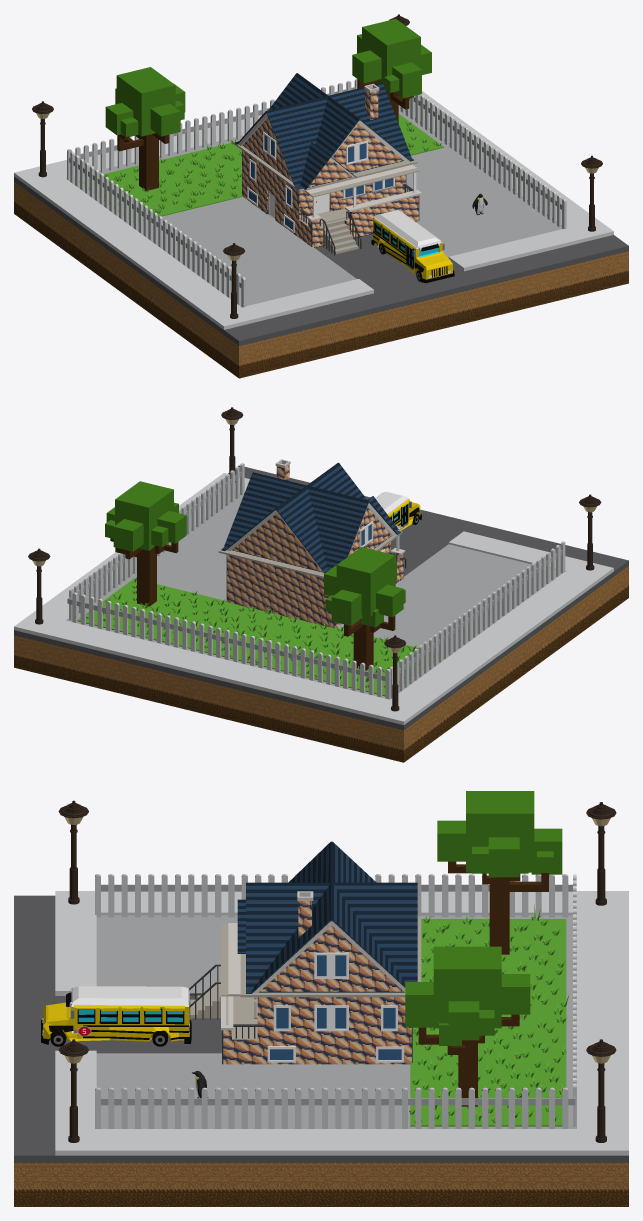
3 renders of one model, top to bottom at view 1: azimuth 30°, elevation 25°; view 2: azimuth 150°, elevation 25°; view 3: azimuth 270°, elevation 25°, orthographic. The views are drawn at different scales.
Visible parts, largest first — view 1: Cube.004, Cube.430, VEHICLES_SCHOOL_BUS; view 2: Cube.004, Cube.430, VEHICLES_SCHOOL_BUS; view 3: Cube.004, Cube.430, VEHICLES_SCHOOL_BUS.
Boxes of the visible parts, x1,y1,x2,y2 form: Cube.004: [14, 14, 628, 378]; Cube.430: [233, 73, 422, 255]; VEHICLES_SCHOOL_BUS: [371, 210, 454, 283]; Cube.004: [14, 407, 628, 762]; Cube.430: [218, 459, 406, 627]; VEHICLES_SCHOOL_BUS: [375, 491, 421, 530]; Cube.004: [14, 791, 628, 1206]; Cube.430: [189, 841, 421, 1064]; VEHICLES_SCHOOL_BUS: [41, 986, 191, 1046].
Size of the model in its own units: 4000 by 1617 by 4000.
Materials: 34 (4 with a texture image).
